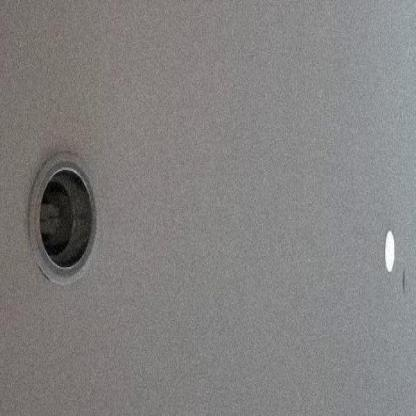light_off: (16, 127, 110, 303)
